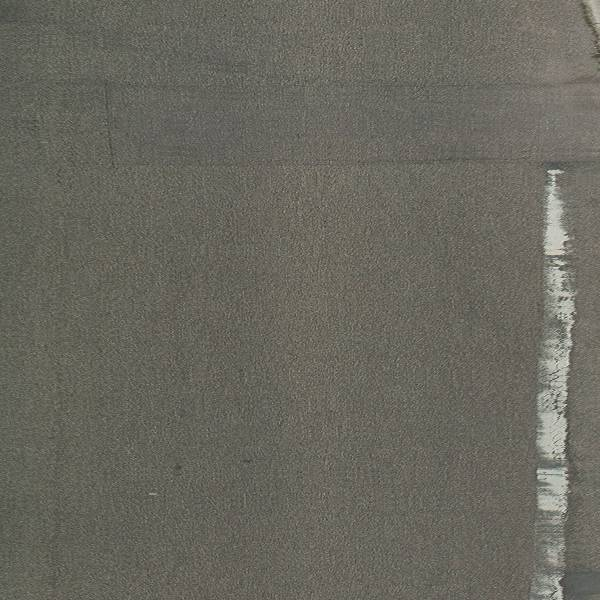road_damage: (90, 65, 600, 172)
